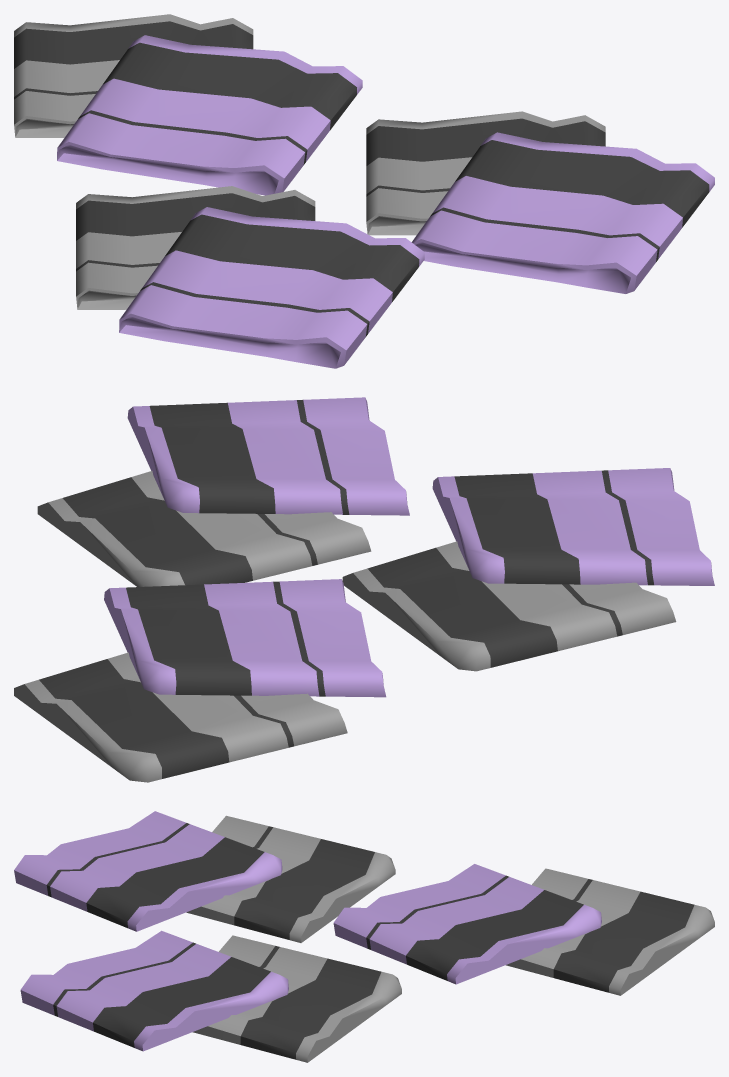
Rendered from ROPA.obj.
3 renders of one model, top to bottom at view 1: azimuth 30°, elevation 25°; view 2: azimuth 150°, elevation 25°; view 3: azimuth 270°, elevation 25°, orthographic. The views are drawn at different scales.
Parts seen in each view (by area): view 1: clothes_002.001; view 2: clothes_002.001; view 3: clothes_002.001.
Boxes of the visible parts, <box> form: clothes_002.001: <box>14,14,714,368</box>; clothes_002.001: <box>14,397,714,782</box>; clothes_002.001: <box>14,811,714,1062</box>.
Size of the model in its own units: 1.19 by 0.087 by 1.48.
1 material, 1 textured.
